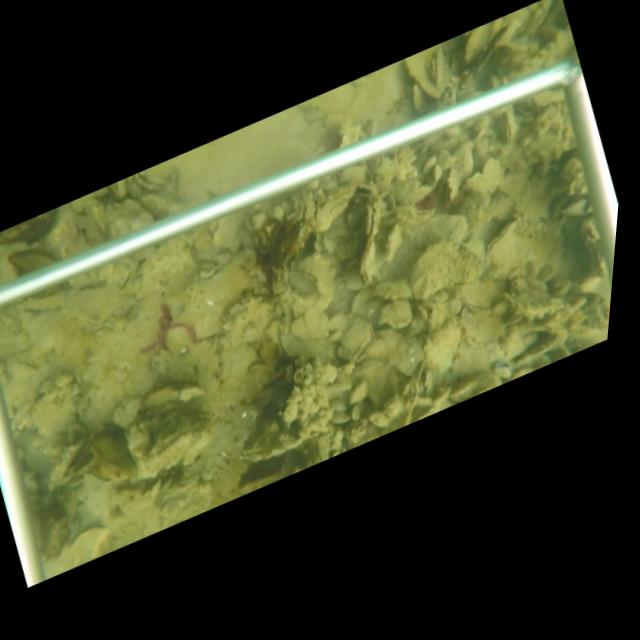Oyster-Closed: (483, 216, 575, 282), (407, 238, 488, 301), (351, 182, 383, 285), (297, 253, 341, 297), (457, 276, 509, 313), (336, 318, 377, 363), (427, 46, 449, 94), (383, 221, 404, 266), (498, 110, 519, 149), (319, 235, 335, 253), (336, 244, 350, 261)
Oyster-Indeterminate: (27, 381, 79, 444), (400, 45, 441, 99), (460, 23, 491, 70), (443, 166, 459, 206)
Oyster-Open: (44, 437, 98, 494)
